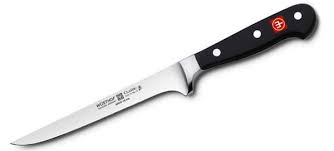knife: (8, 2, 317, 146)
